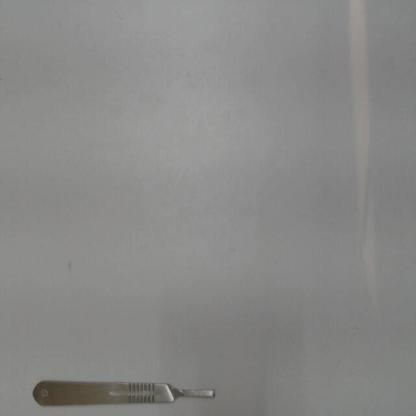No.4 BP Handle: (27, 369, 219, 409)
